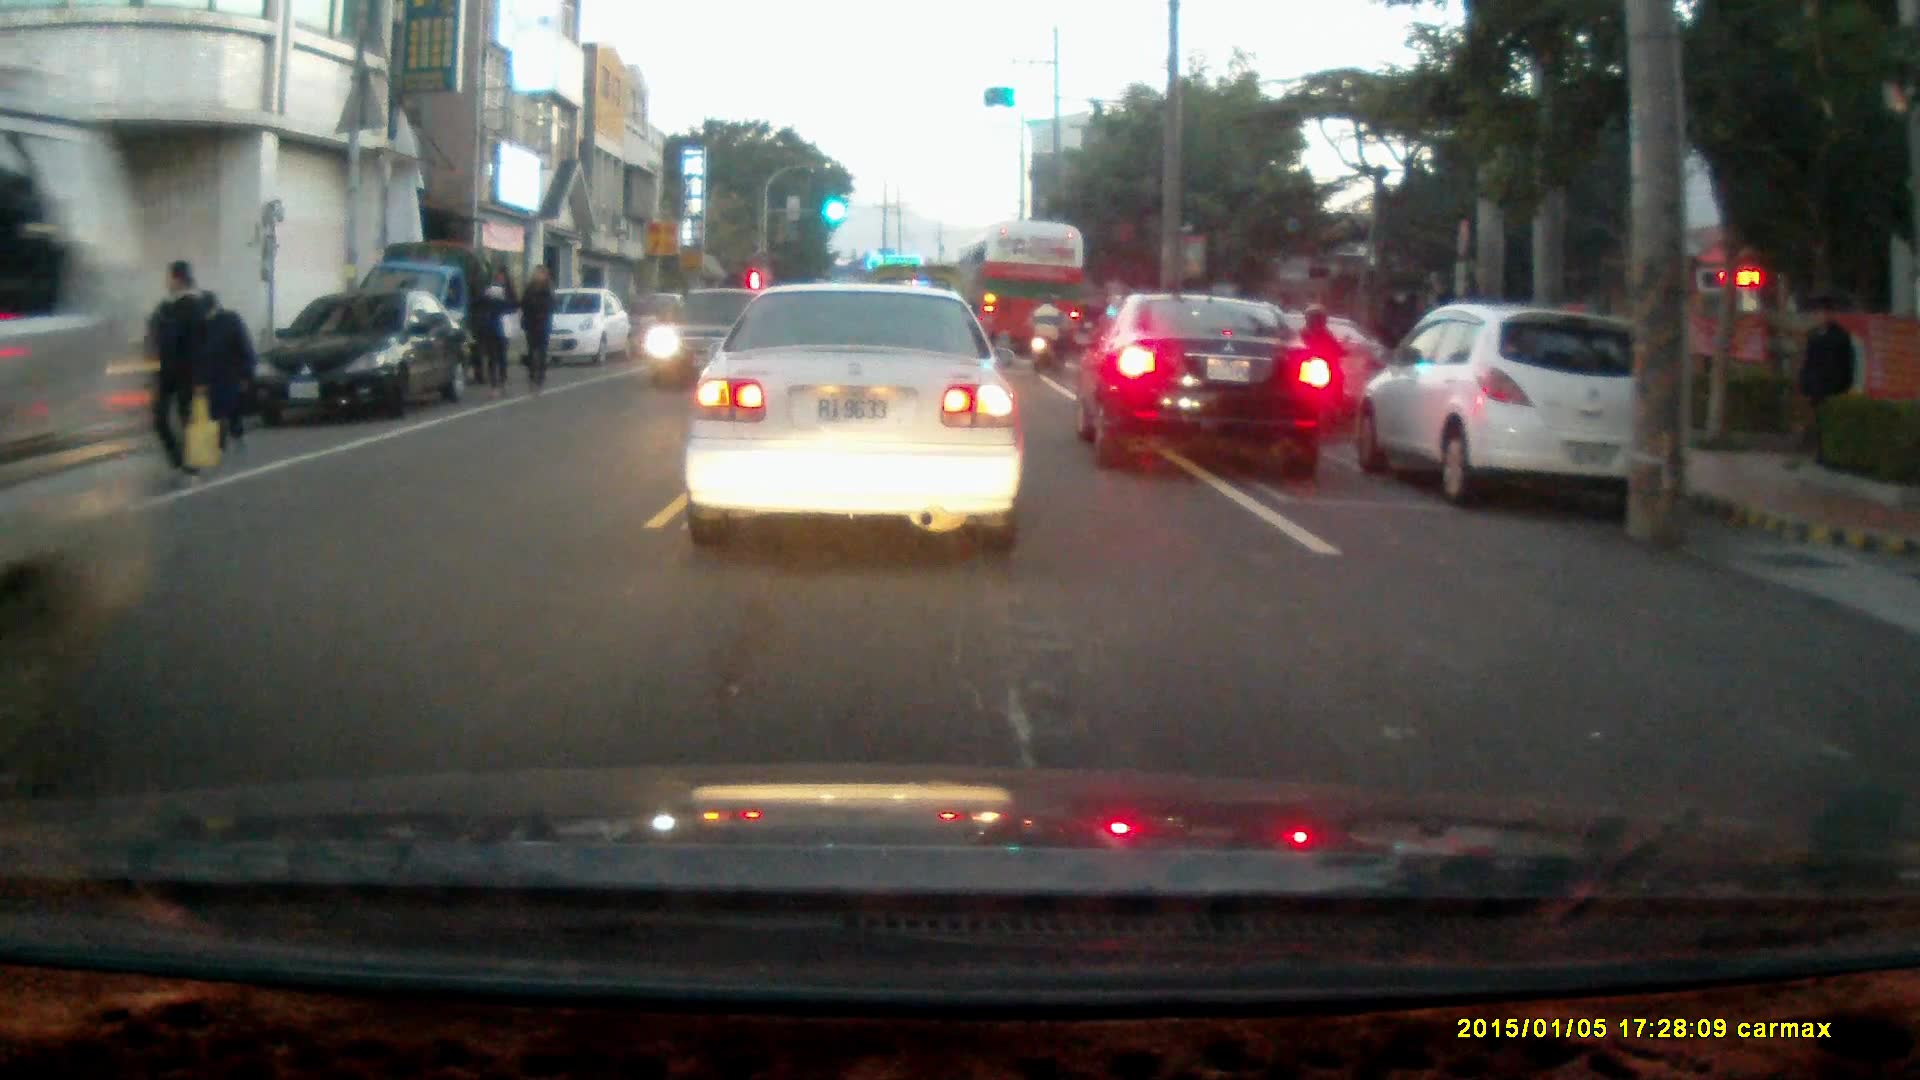pedestrian: (134, 258, 214, 491), (189, 288, 256, 467), (1796, 290, 1857, 466), (473, 265, 518, 401), (516, 261, 555, 401), (1387, 290, 1423, 377)
rider: (1295, 300, 1352, 446), (1027, 293, 1066, 373)
vehicle: (1, 105, 164, 765), (680, 282, 1028, 558), (1353, 298, 1678, 510), (1074, 293, 1324, 479), (260, 284, 467, 428), (358, 238, 515, 393), (961, 220, 1091, 366), (650, 281, 748, 386), (513, 285, 634, 365)
